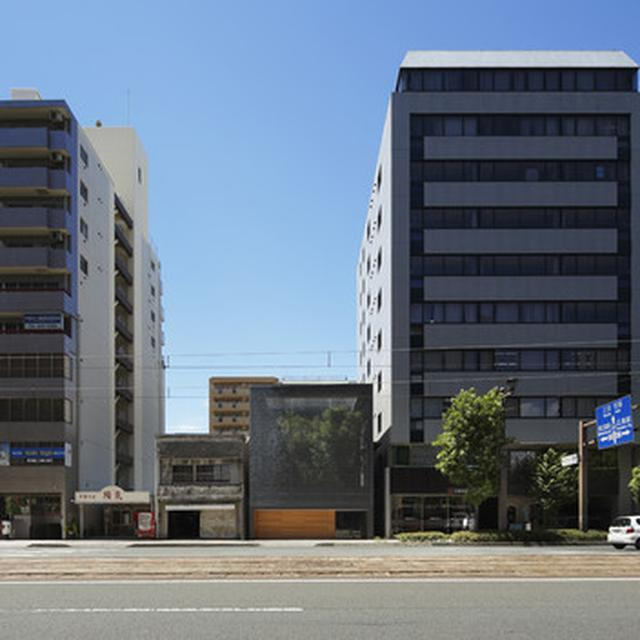building: (357, 51, 638, 539), (0, 85, 166, 539), (248, 382, 376, 536), (152, 430, 245, 540), (207, 374, 281, 437), (72, 485, 155, 534)
